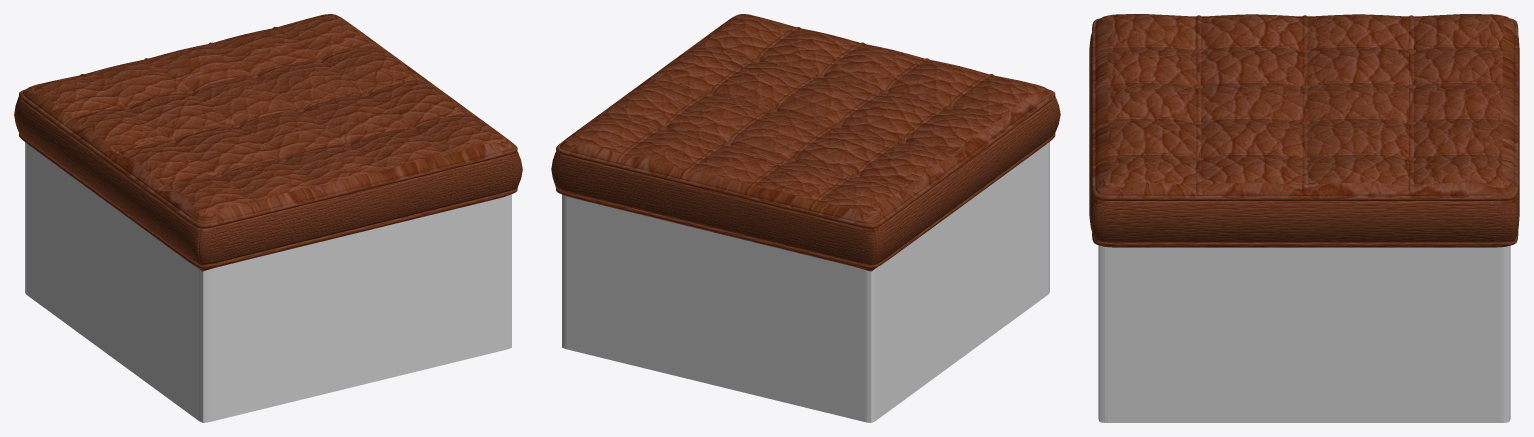
The model's file is brownsofa.FBX.
3 renders of one model, left to right at view 1: azimuth 30°, elevation 25°; view 2: azimuth 150°, elevation 25°; view 3: azimuth 270°, elevation 25°, orthographic. The views are drawn at different scales.
Parts seen in each view (by area): view 1: Box001, Box002; view 2: Box001, Box002; view 3: Box001, Box002.
Boxes of the visible parts, bbox=[...] form: Box001: bbox=[14, 14, 522, 271]; Box002: bbox=[25, 142, 511, 422]; Box001: bbox=[551, 14, 1060, 271]; Box002: bbox=[562, 142, 1049, 422]; Box001: bbox=[1089, 14, 1519, 247]; Box002: bbox=[1098, 245, 1510, 422].
Size of the model in its own units: 66.75 by 41.2 by 65.84.
